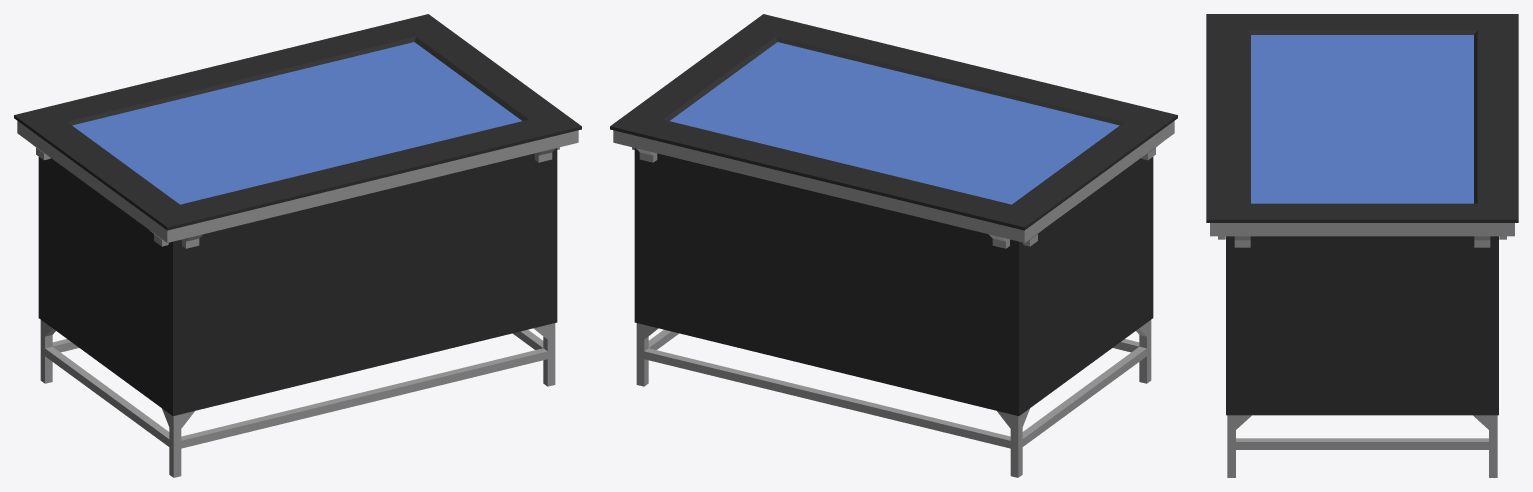
File: TacTile.fbx
The picture shows the model from 3 angles, left to right: view 1: azimuth 30°, elevation 25°; view 2: azimuth 150°, elevation 25°; view 3: azimuth 270°, elevation 25°; orthographic projection.
Visible parts, largest first — view 1: TacTile-SidePanels, TacTile-TableTop, TacTile-BaseSupport, TacTile-TopSupport; view 2: TacTile-SidePanels, TacTile-TableTop, TacTile-BaseSupport, TacTile-TopSupport; view 3: TacTile-TableTop, TacTile-SidePanels, TacTile-TopSupport, TacTile-BaseSupport.
Boxes of the visible parts, bbox=[...] form: TacTile-SidePanels: bbox=[38, 148, 557, 415]; TacTile-TableTop: bbox=[14, 14, 581, 230]; TacTile-BaseSupport: bbox=[40, 320, 555, 477]; TacTile-TopSupport: bbox=[17, 121, 578, 248]; TacTile-SidePanels: bbox=[634, 148, 1153, 415]; TacTile-TableTop: bbox=[610, 14, 1177, 230]; TacTile-BaseSupport: bbox=[636, 320, 1151, 477]; TacTile-TopSupport: bbox=[613, 121, 1174, 248]; TacTile-TableTop: bbox=[1206, 14, 1518, 222]; TacTile-SidePanels: bbox=[1226, 236, 1498, 415]; TacTile-TopSupport: bbox=[1210, 223, 1514, 247]; TacTile-BaseSupport: bbox=[1227, 415, 1497, 477].
Bounding box in the file's own units: 1.38 × 0.8337 × 0.885.
